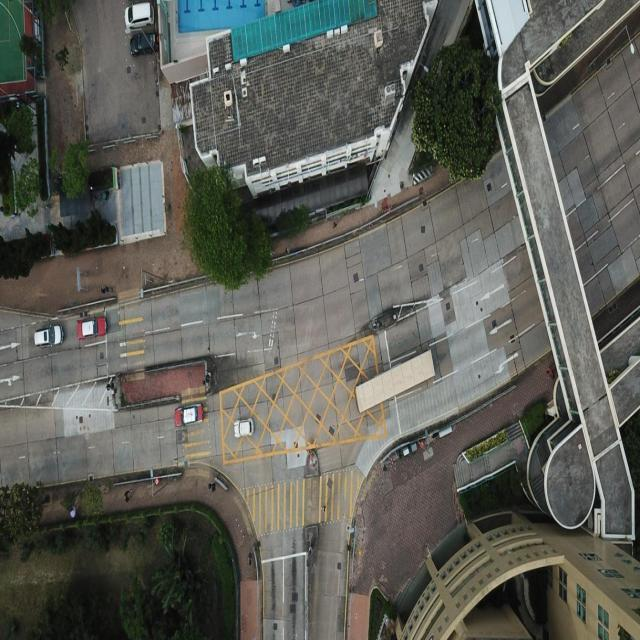p3rson: (546, 365, 554, 380), (124, 488, 132, 502), (70, 506, 78, 518), (284, 247, 290, 254), (332, 221, 336, 228)
